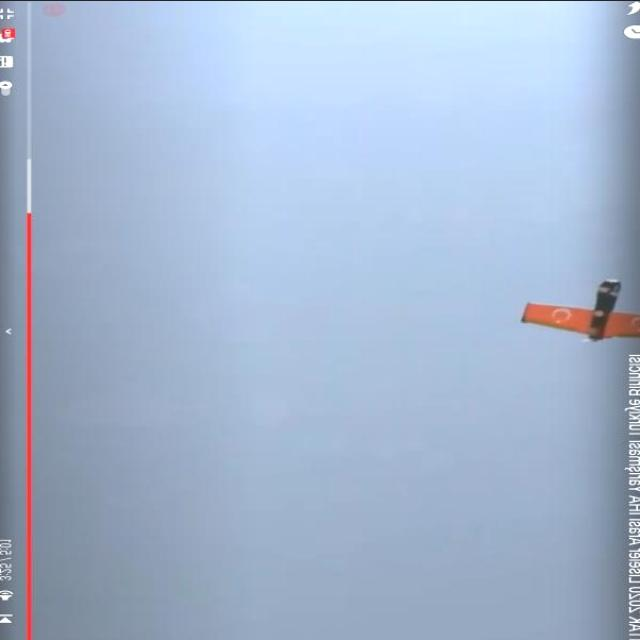plane: (521, 276, 640, 342)
